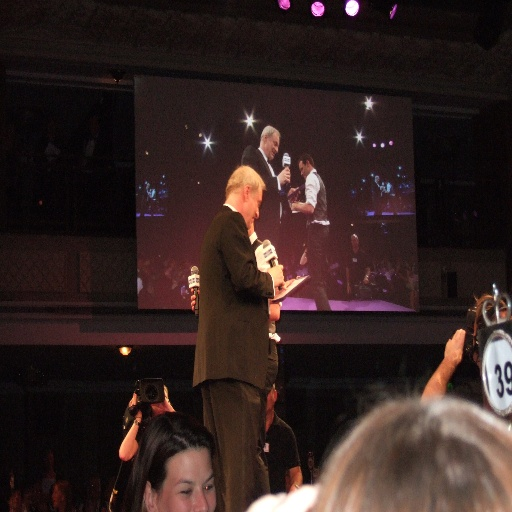hand: (444, 327, 465, 368), (266, 265, 285, 289), (128, 393, 143, 419), (276, 166, 291, 187), (160, 385, 170, 412), (190, 285, 199, 313), (286, 187, 300, 204), (290, 200, 295, 210)
